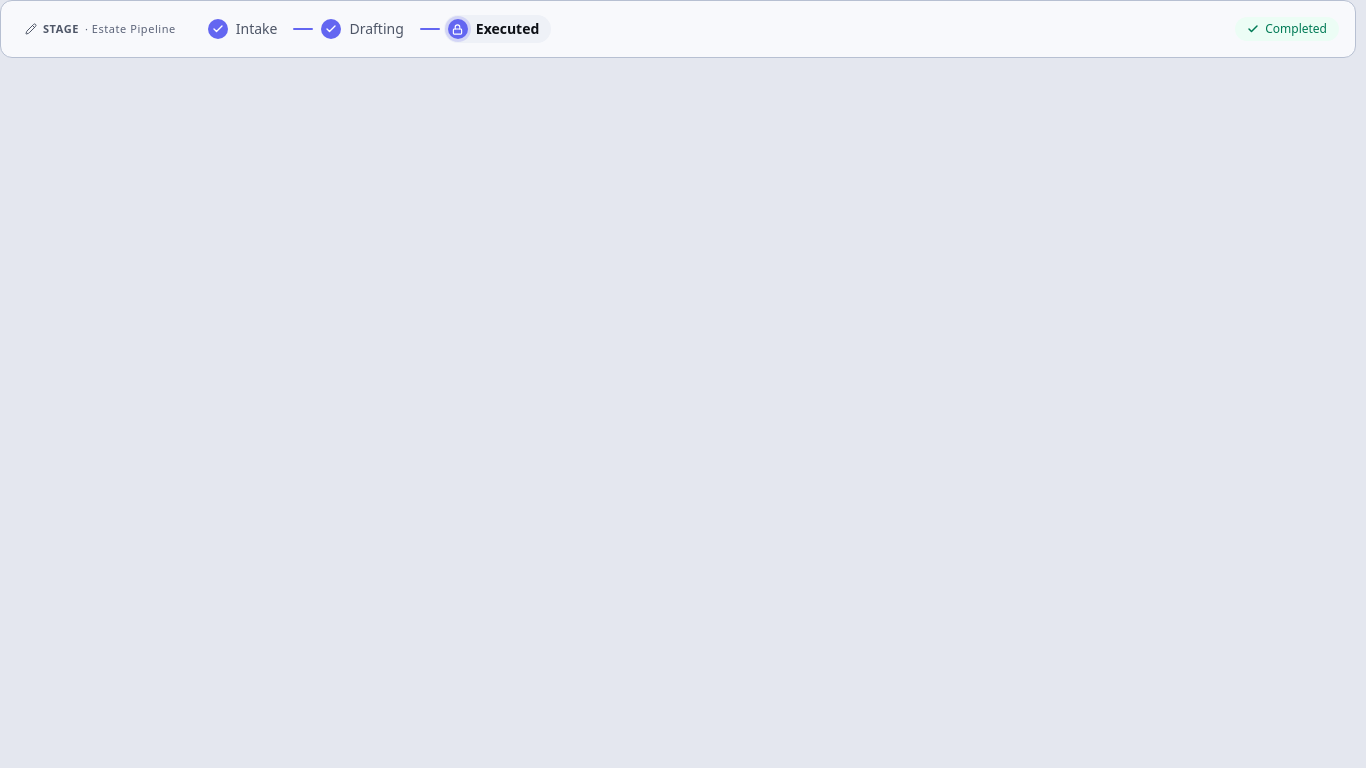
Test case: MatterStageBar › offers to reopen a matter moved back off its ending stage
Click the button "Drafting".
click(367, 29)  # box [318,15,416,43]
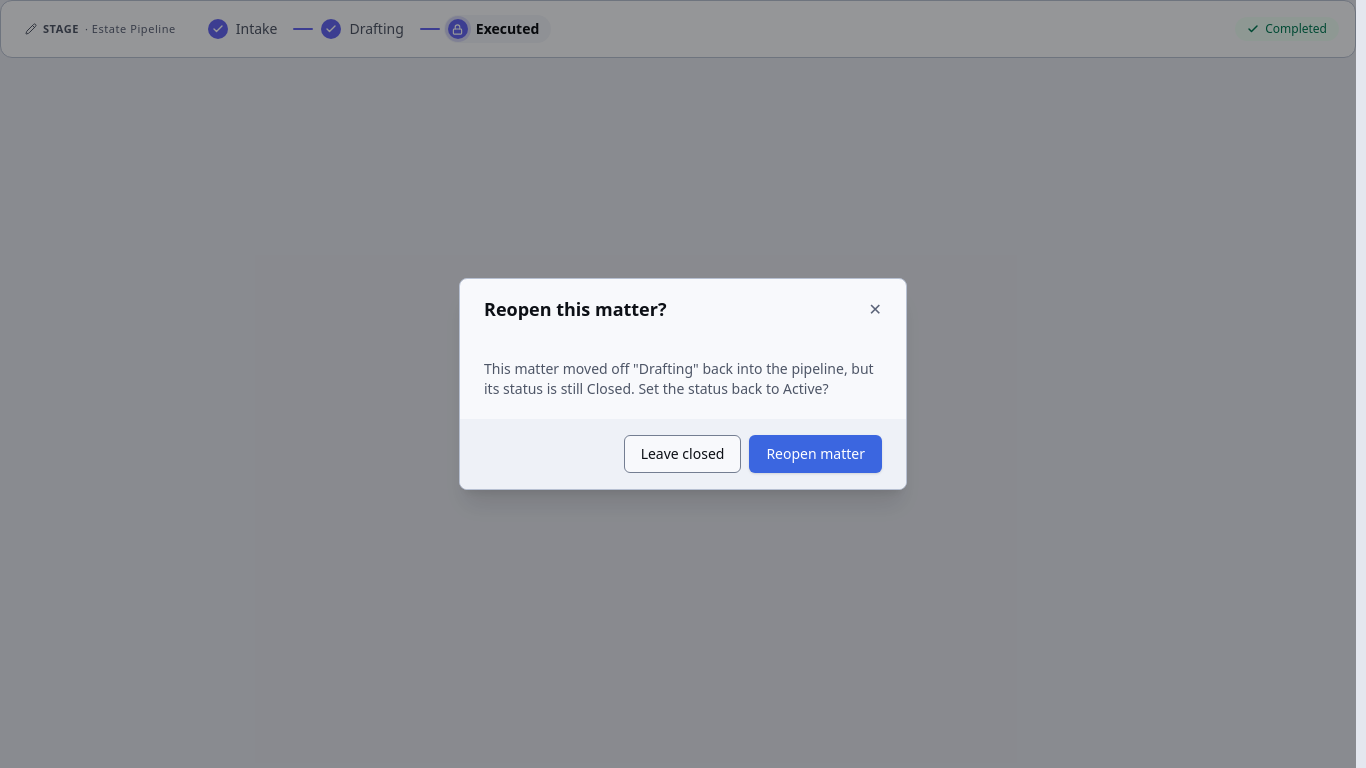
Expected: the heading "Reopen this matter?" is shown, [484,295,666,323]
Click the button "Reopen matter".
click(816, 454)  # box [749,435,882,473]
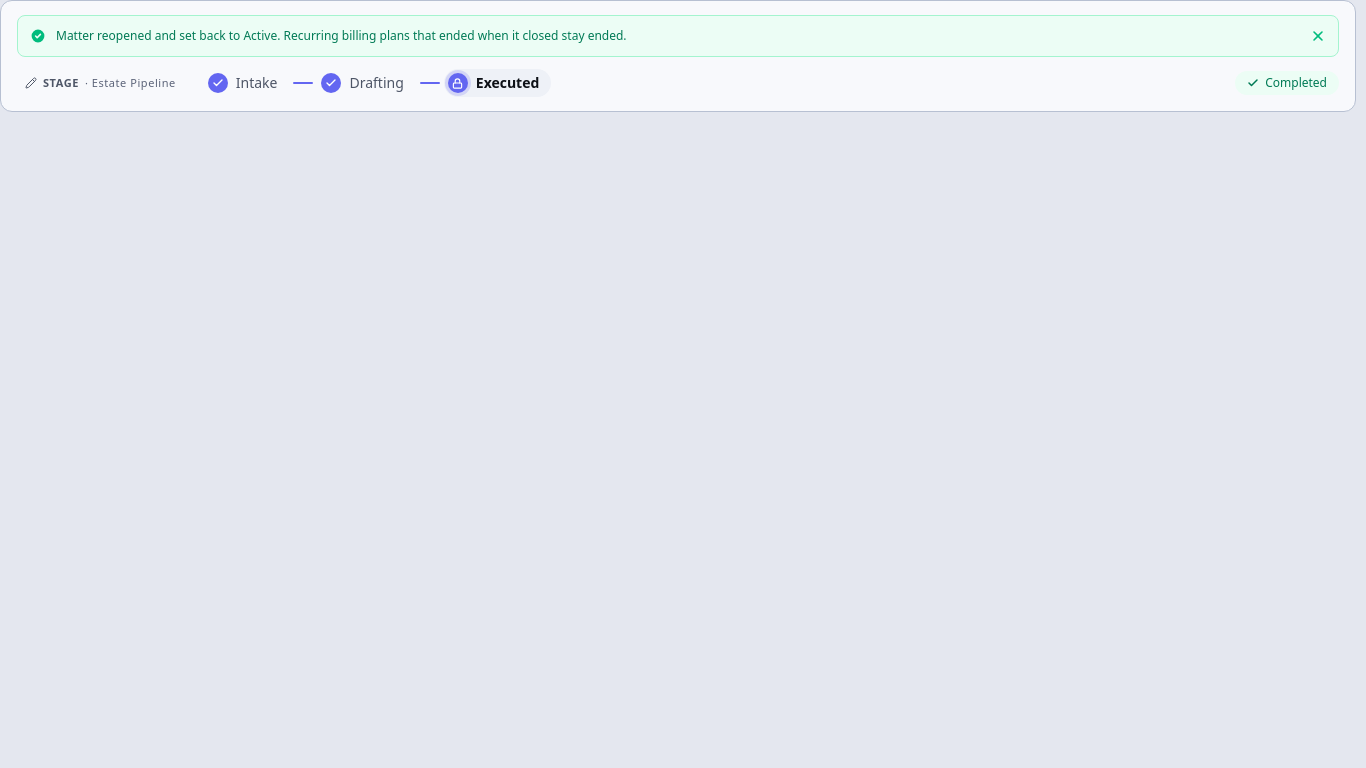
Expected: the text "Matter reopened and set back to Active" is shown, [56,27,627,44]
